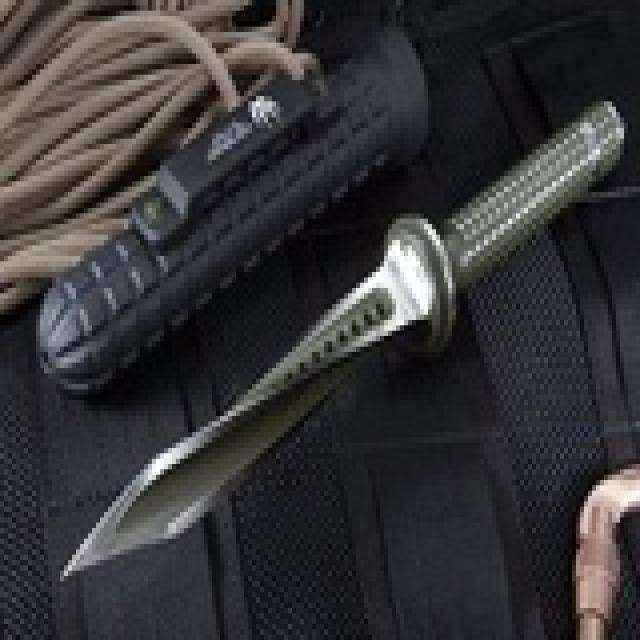Knife: (44, 89, 622, 592)
